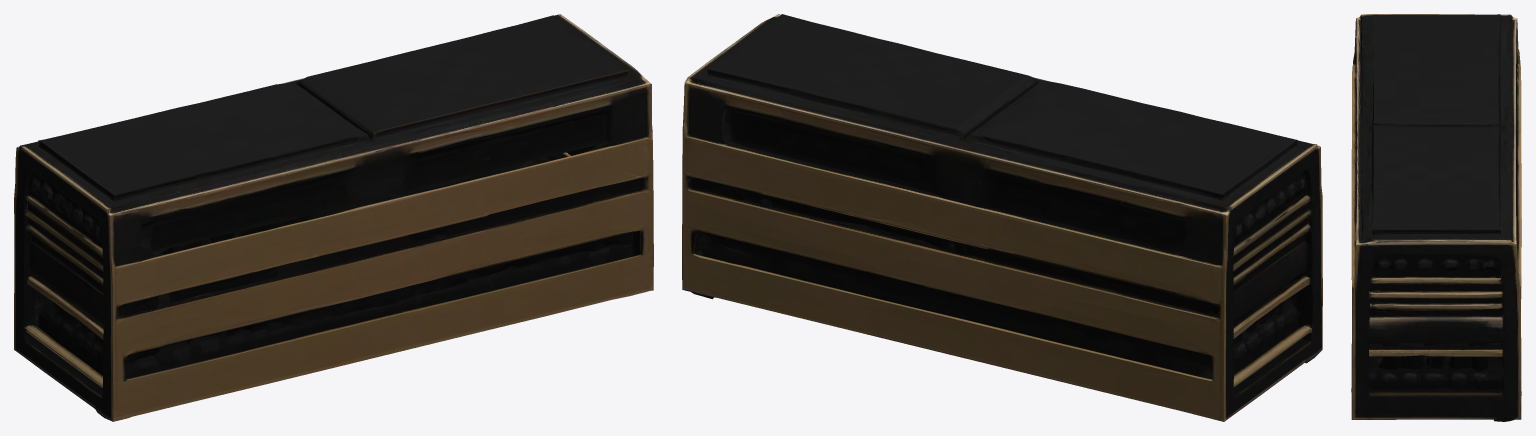
Rendered from 8c4a5b6c-8ebd-4ff4-9be5-66e6bce06033.glb.
3 views of the same model, side by side, from view 1: azimuth 30°, elevation 25°; view 2: azimuth 150°, elevation 25°; view 3: azimuth 270°, elevation 25° (orthographic). The views are drawn at different scales.
Visible parts, largest first — view 1: world; view 2: world; view 3: world.
Boxes of the visible parts, <box> form: world: <box>14,14,653,421</box>; world: <box>682,14,1322,421</box>; world: <box>1351,14,1521,421</box>.
Bounding box in the file's own units: 1 × 0.3867 × 0.3173.
Materials: 1 (1 with a texture image).
